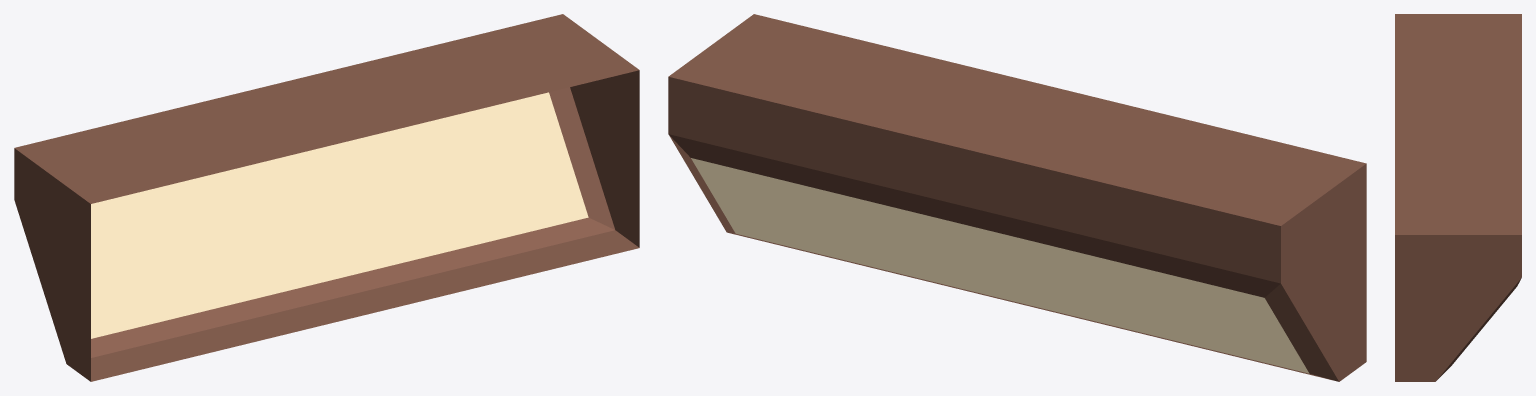
File: SM_Lamp_03.fbx
The picture shows the model from 3 angles, left to right: view 1: azimuth 30°, elevation 25°; view 2: azimuth 150°, elevation 25°; view 3: azimuth 270°, elevation 25°; orthographic projection. The views are drawn at different scales.
Parts seen in each view (by area): view 1: SM_Lamp_03; view 2: SM_Lamp_03; view 3: SM_Lamp_03.
Part boxes in pixels (left/top/right/bottom): SM_Lamp_03: left=14, top=14, right=639, bottom=381; SM_Lamp_03: left=668, top=14, right=1366, bottom=381; SM_Lamp_03: left=1395, top=14, right=1521, bottom=381.
Bounding box in the file's own units: 138 × 42.59 × 33.3.
1 material, 1 textured.
